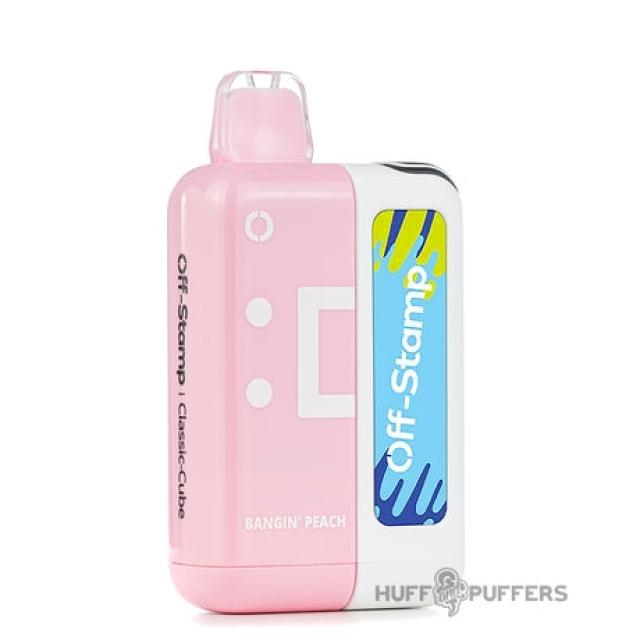Hazard: (164, 68, 465, 615)
